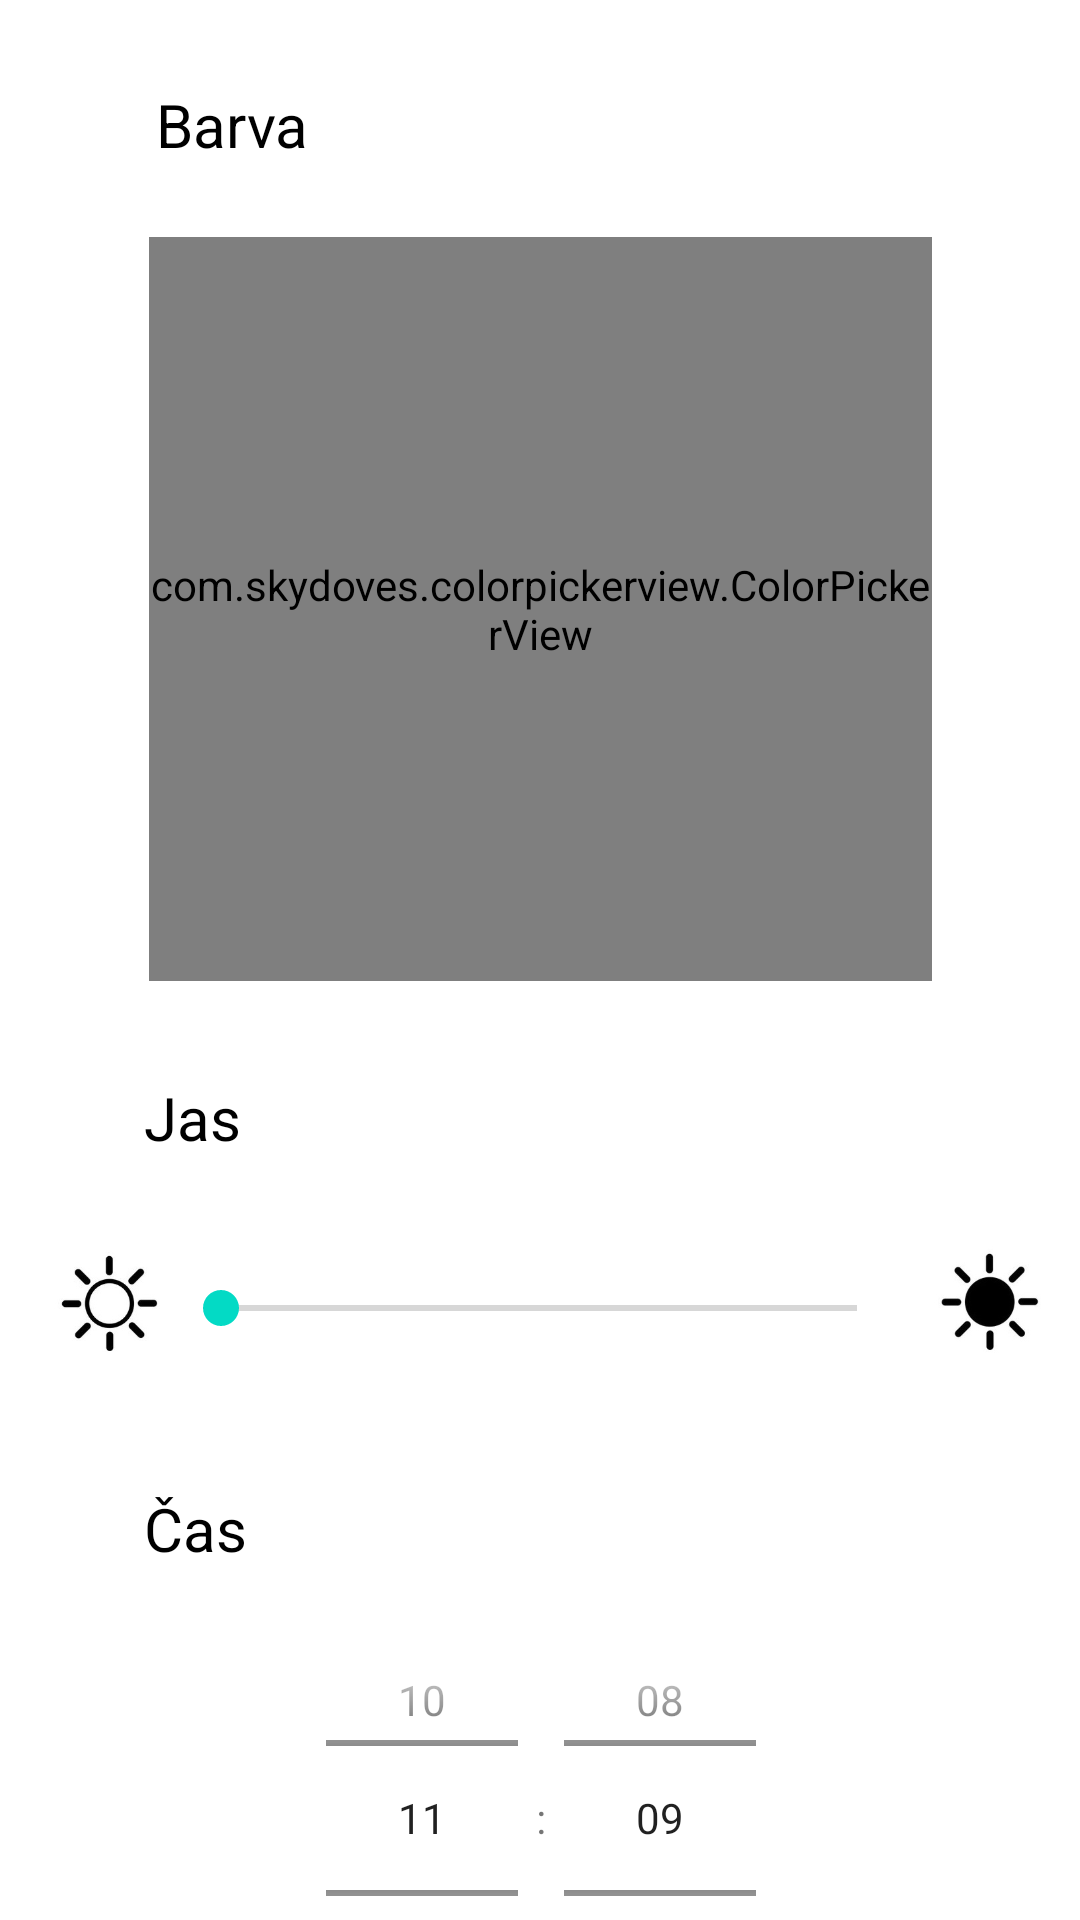

Icon bounding boxes for this 1080*1920 phone screenshot, format {"left": x1, "top": y1, "right": x2, "bottom": y2}:
brightness: {"left": 941, "top": 1253, "right": 1038, "bottom": 1350}, {"left": 61, "top": 1255, "right": 157, "bottom": 1351}
